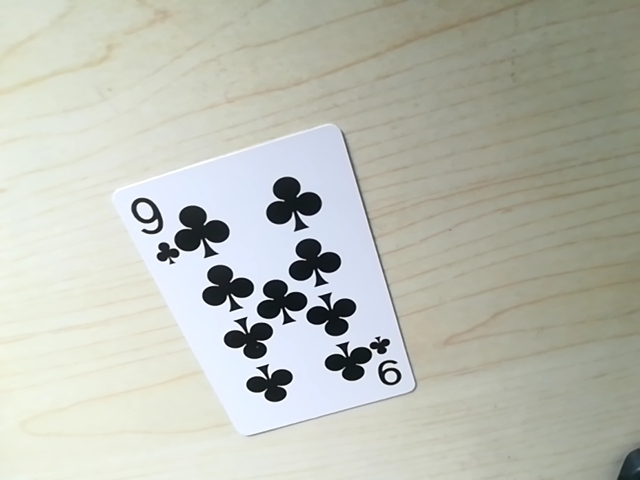mh 9: (127, 192, 177, 268), (365, 338, 408, 395)
